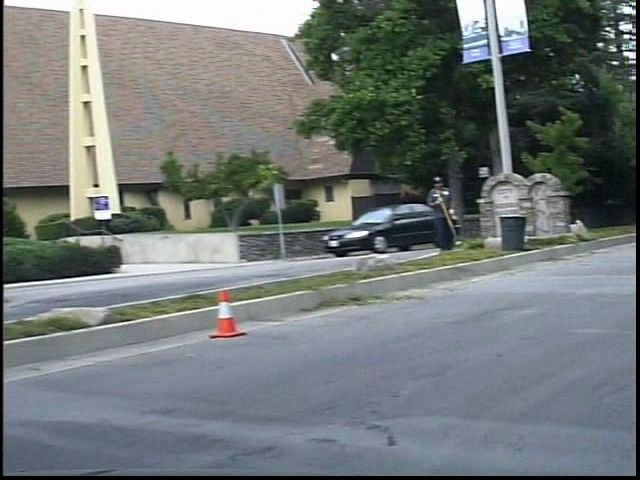person: (438, 175, 472, 258)
